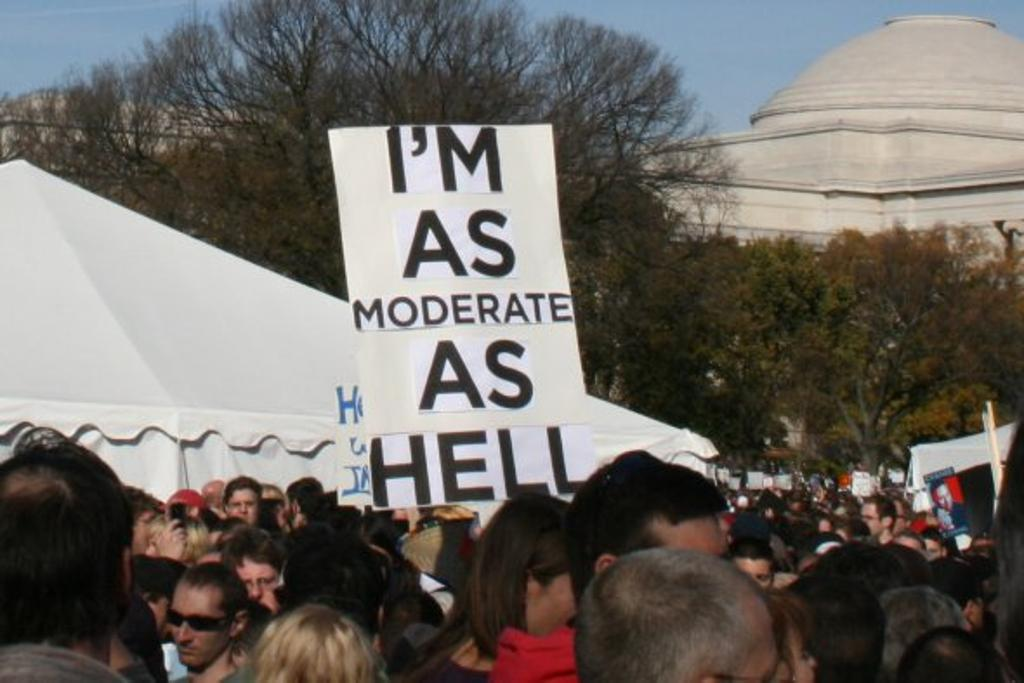face: (531, 548, 594, 638), (172, 593, 230, 665), (233, 564, 278, 621), (773, 624, 816, 683), (129, 586, 169, 645), (731, 561, 772, 604), (228, 493, 258, 528), (131, 515, 157, 551), (861, 506, 883, 537), (920, 542, 940, 567), (936, 487, 952, 509), (284, 498, 299, 521), (836, 509, 850, 521)
